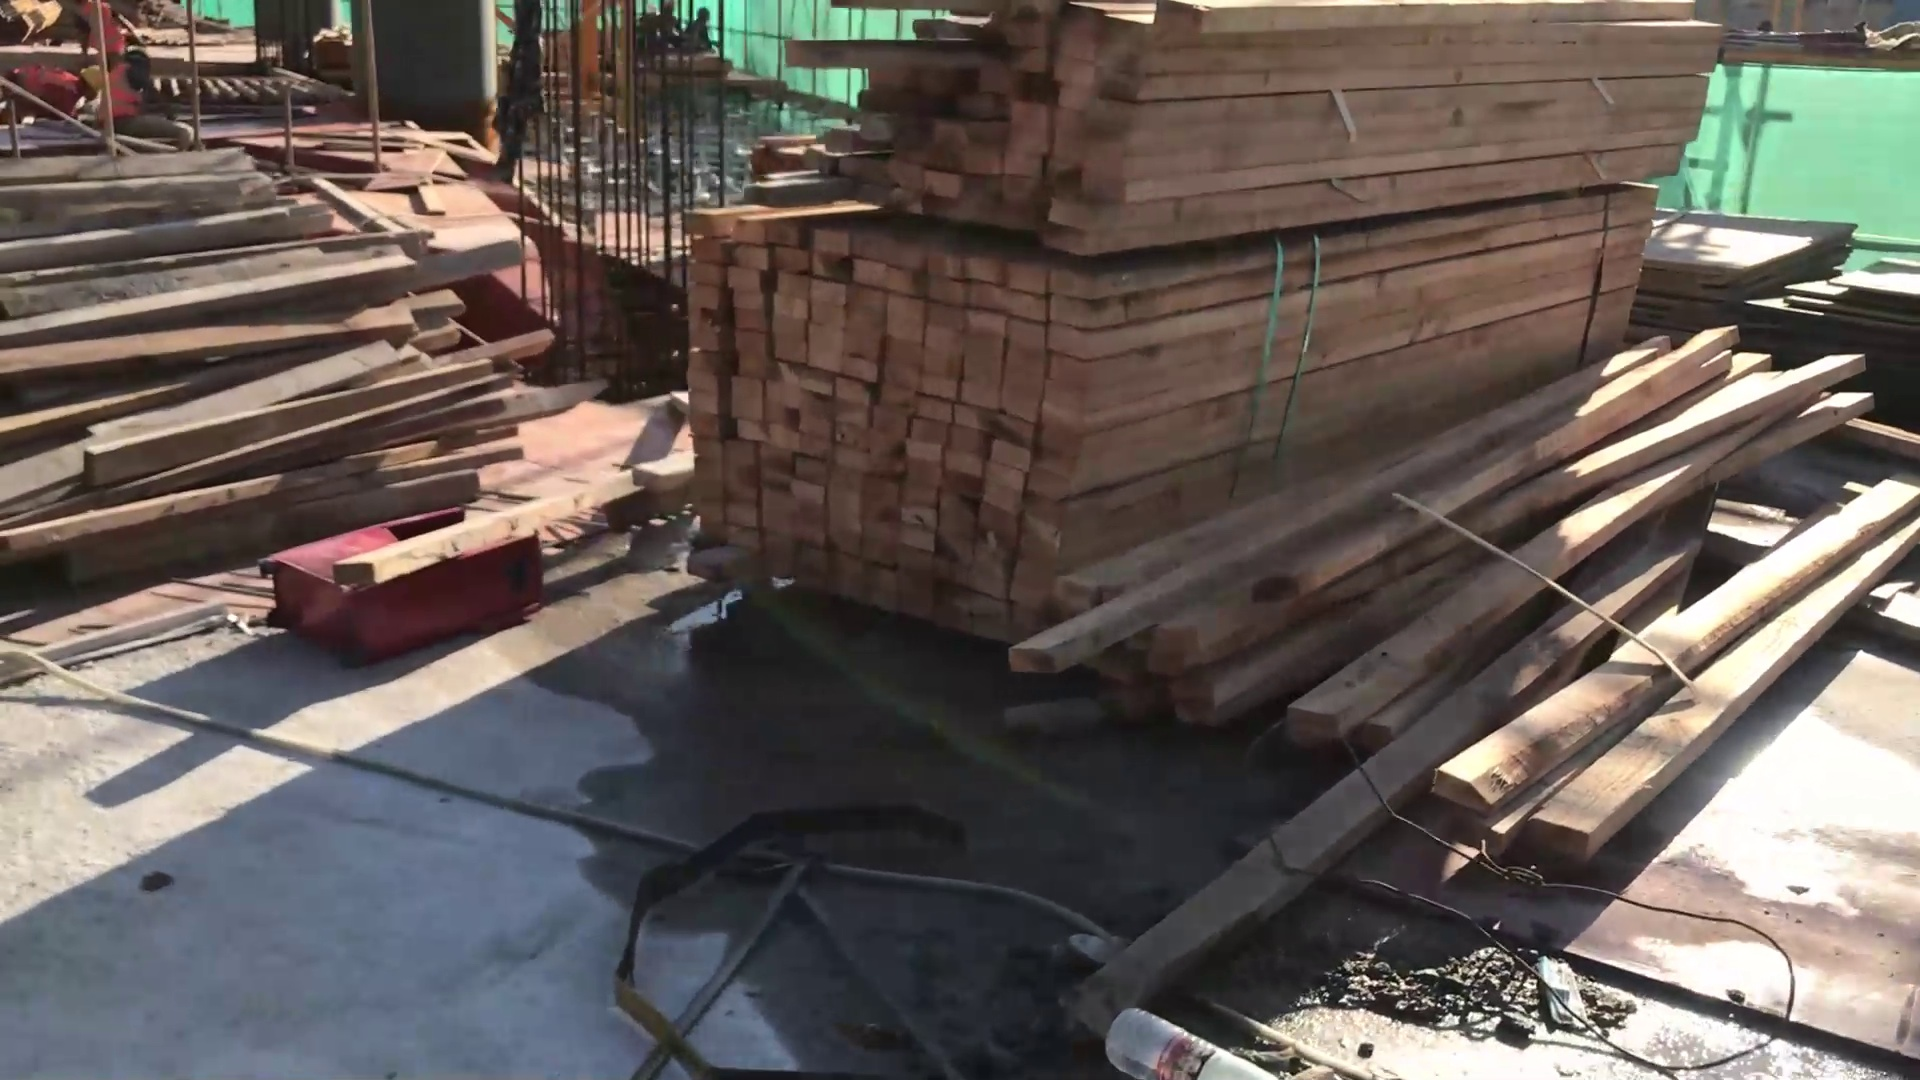wood: (647, 183, 1688, 683), (767, 1, 1741, 274)
